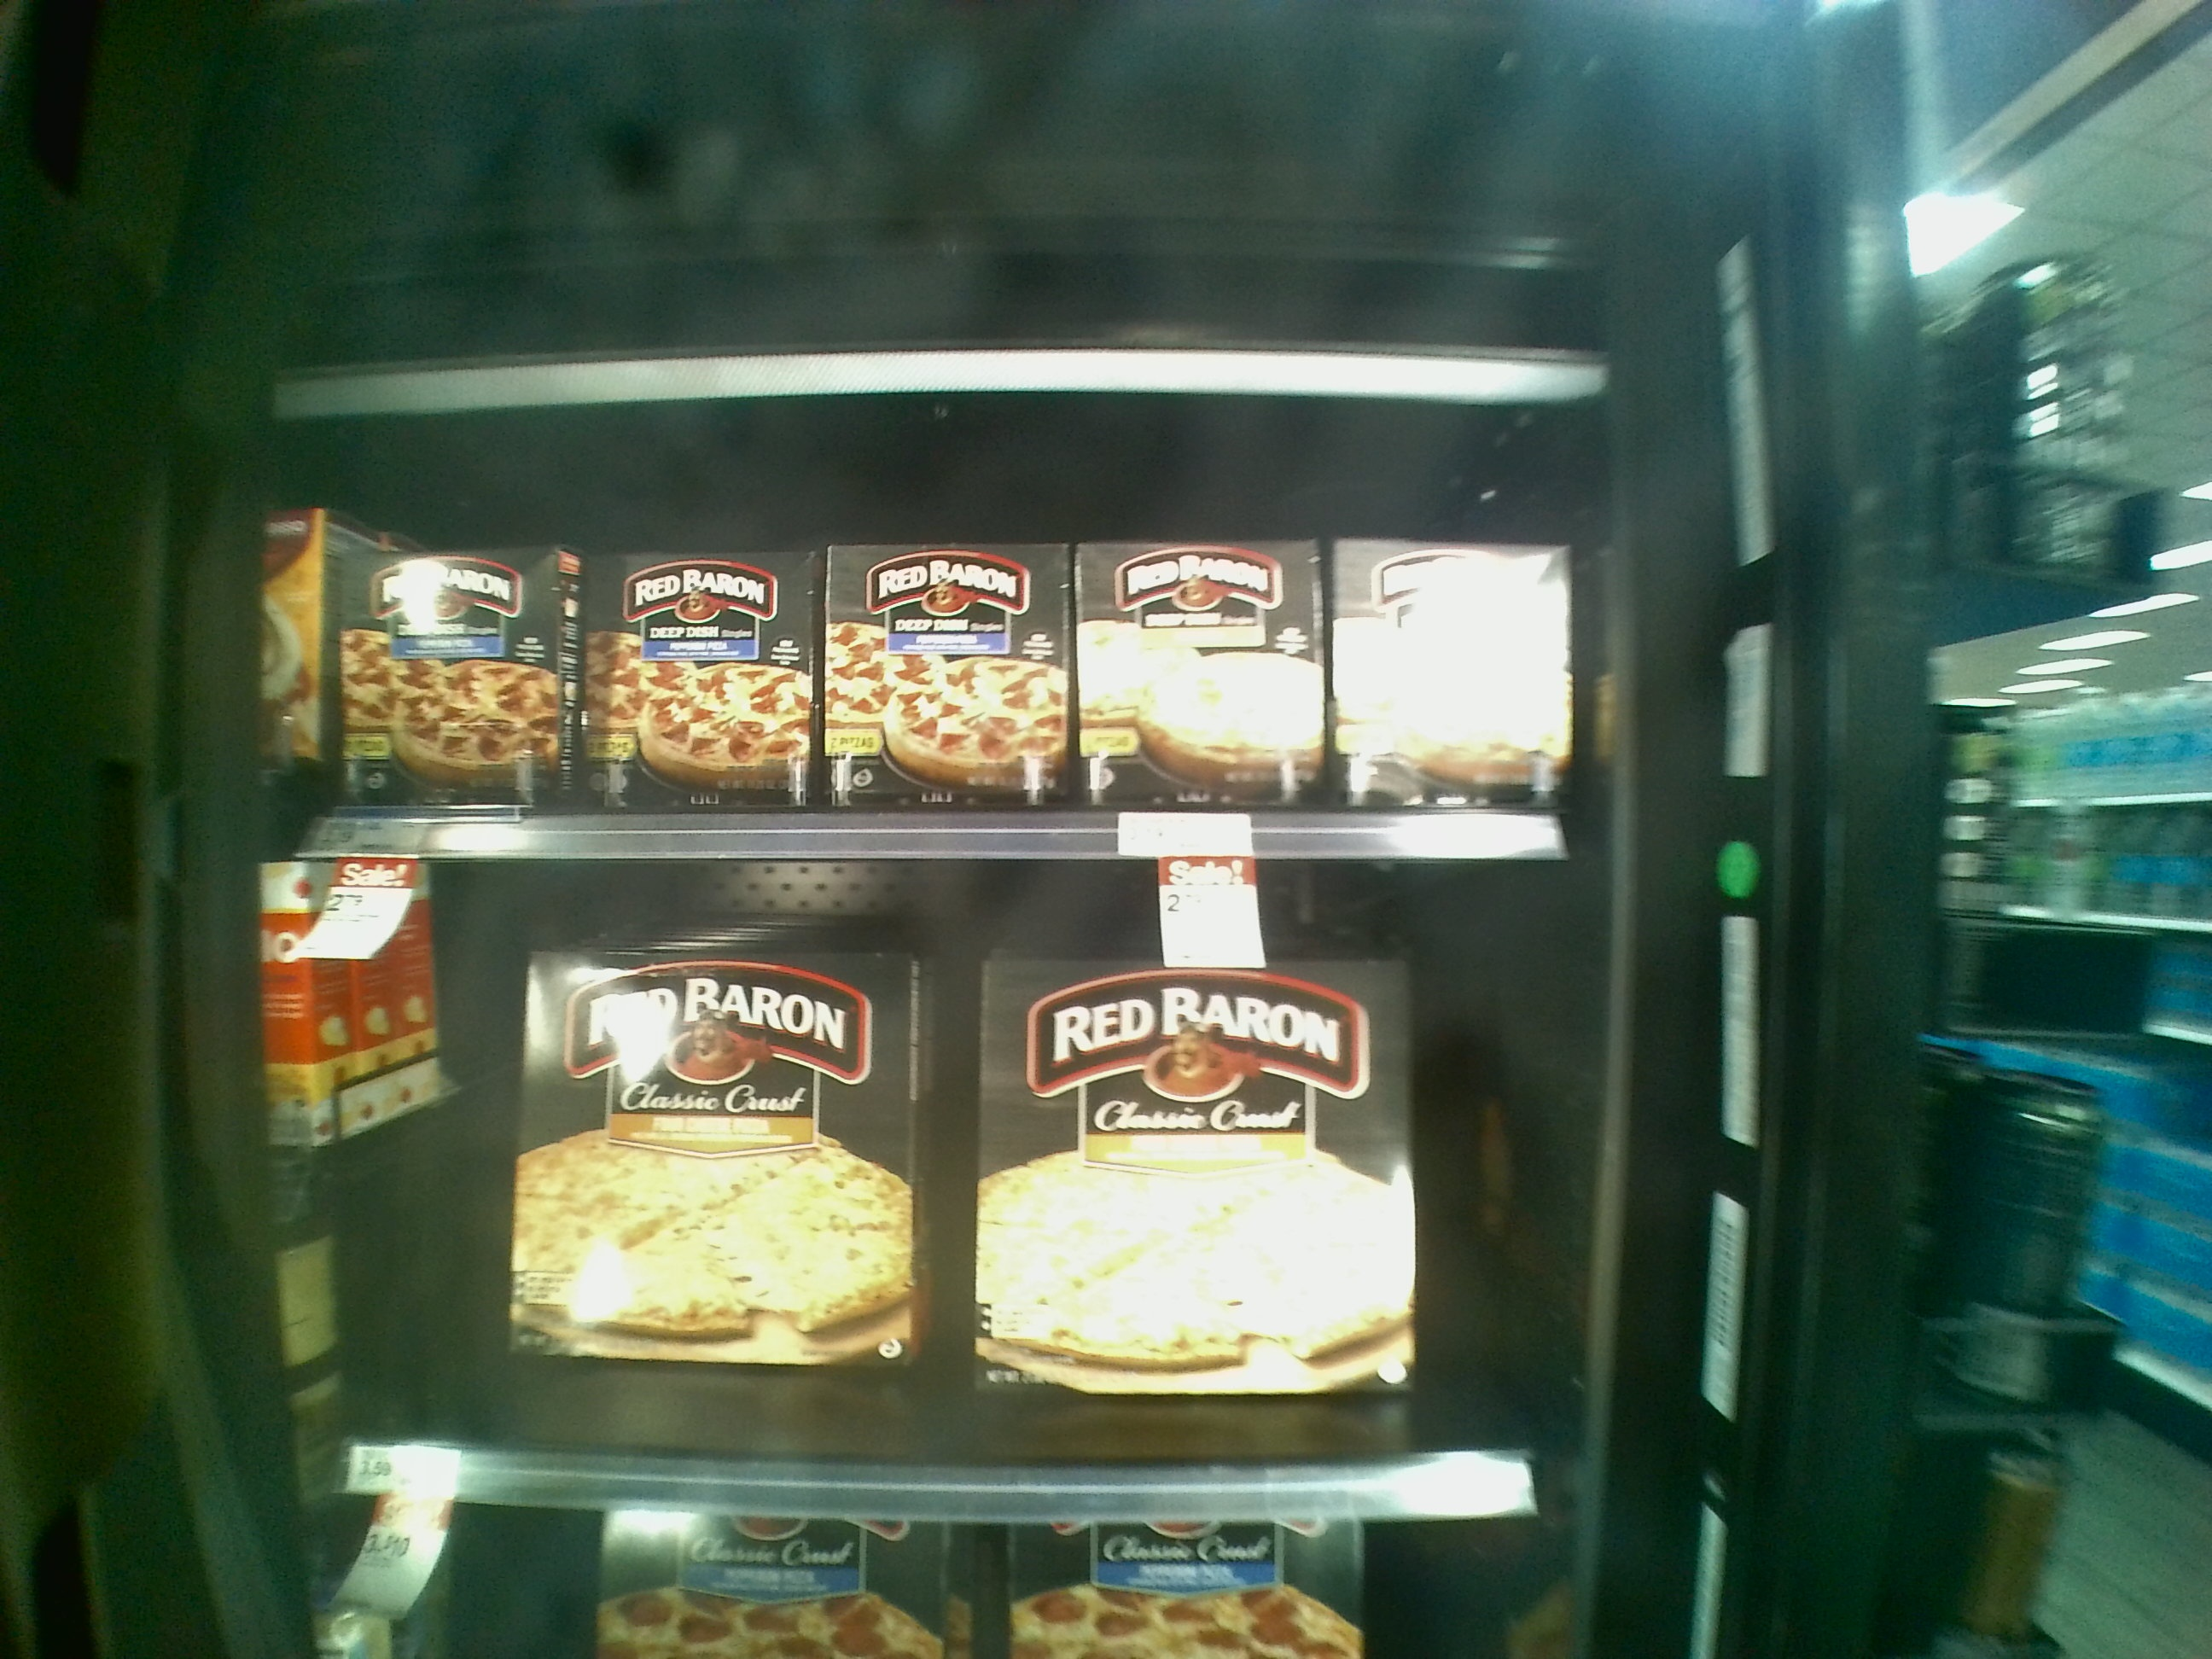shelf: (308, 854, 1562, 1516), (277, 399, 1587, 854)
